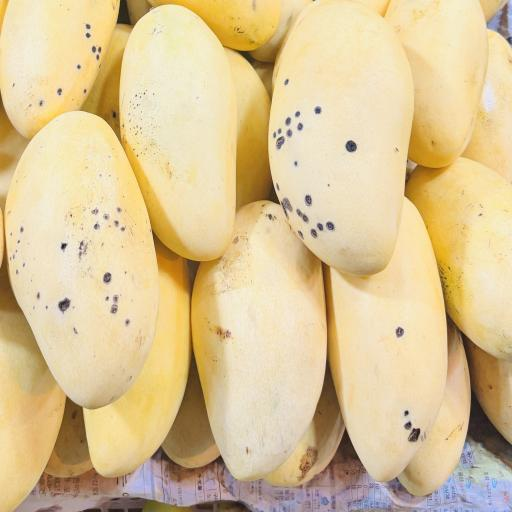fruit: (314, 172, 458, 495), (6, 114, 161, 414), (179, 202, 334, 480), (264, 3, 406, 284), (107, 2, 252, 272), (67, 222, 199, 490), (399, 149, 512, 366), (380, 0, 495, 178), (214, 39, 323, 220), (4, 3, 123, 146), (1, 259, 65, 512), (402, 302, 476, 512), (144, 342, 226, 482), (270, 366, 348, 510), (455, 8, 512, 174), (30, 376, 104, 498), (89, 18, 155, 130), (467, 311, 512, 469)
